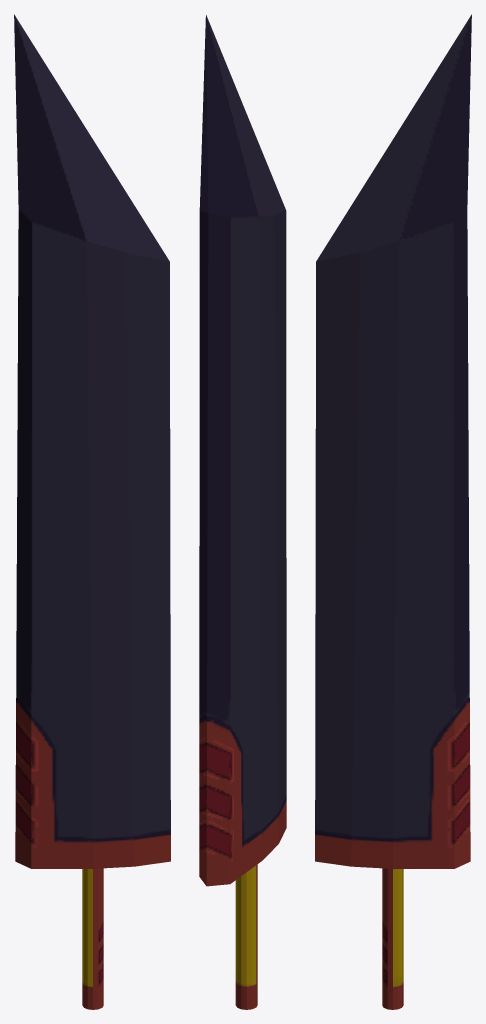
The model's file is sword.fbx.
3 renders of one model, left to right at view 1: azimuth 90°, elevation 25°; view 2: azimuth 150°, elevation 25°; view 3: azimuth 270°, elevation 25°, orthographic. The views are drawn at different scales.
Parts seen in each view (by area): view 1: Sword; view 2: Sword; view 3: Sword.
Part boxes in pixels (<box>): Sword: <box>14,14,170,1009</box>; Sword: <box>199,15,286,1009</box>; Sword: <box>315,14,471,1009</box>.
Size of the model in its own units: 8.77 by 276 by 39.52.
